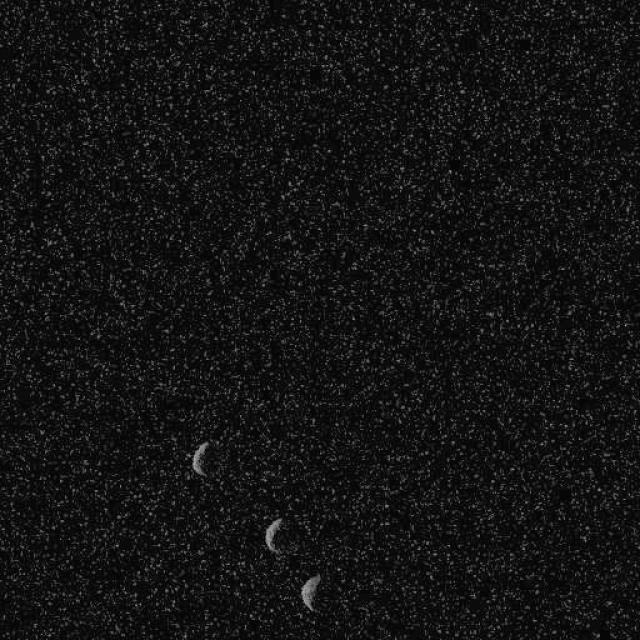D2: (262, 516, 284, 554), (299, 574, 321, 611), (190, 440, 210, 478)
